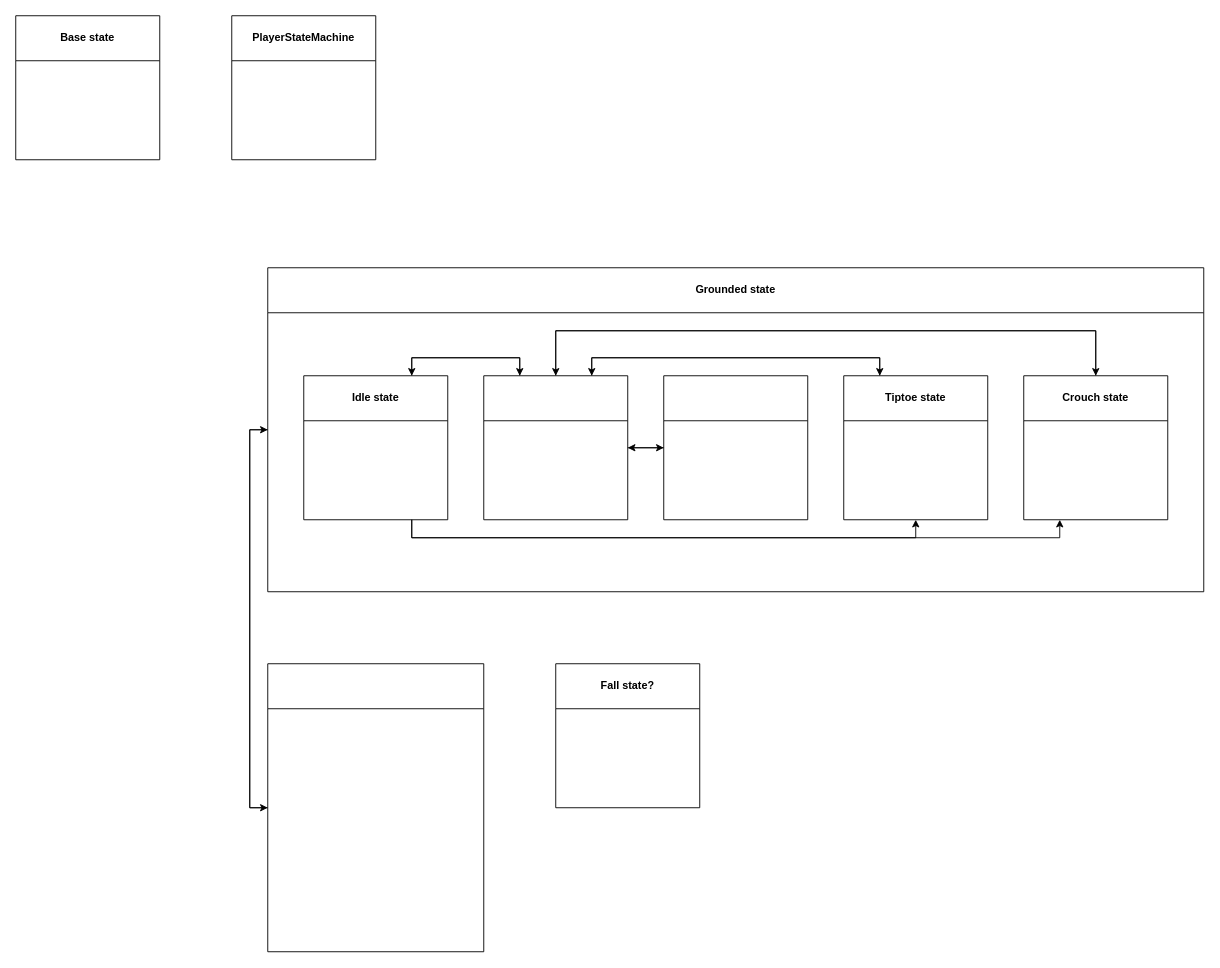
The diagram is 1220 pixels wide and 968 high, and some of its shapes have lost their labels. Here are the shapes that lost their labels. From the top down, the centre of each, then its label:
At point 555,447: "Walk state".
At point 735,447: "Run state".
At point 375,807: "Jump state".
